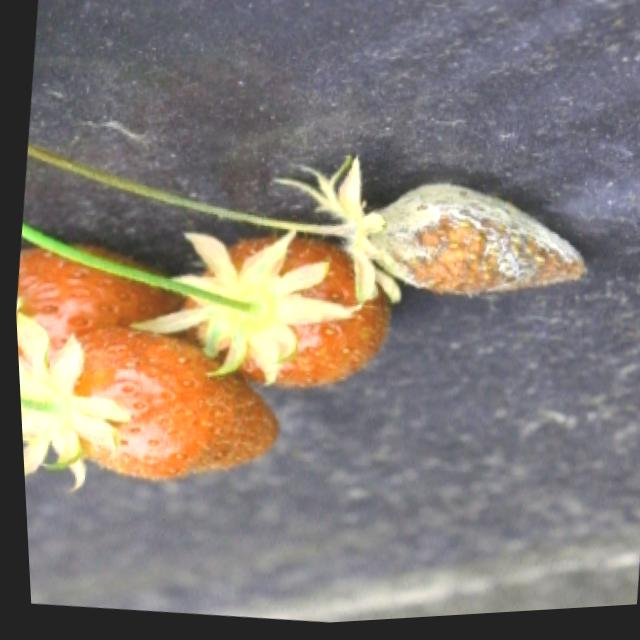Gray Mold: (283, 162, 581, 308)
